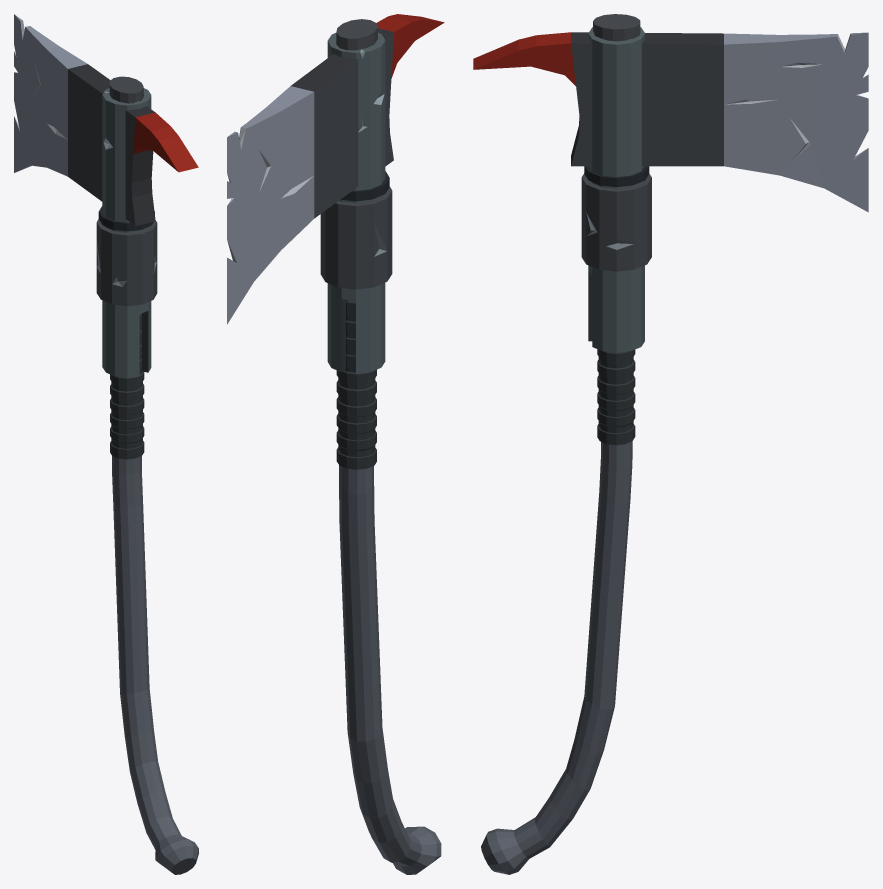
The model's file is axe.glb.
The picture shows the model from 3 angles, left to right: view 1: azimuth 30°, elevation 25°; view 2: azimuth 150°, elevation 25°; view 3: azimuth 270°, elevation 25°; orthographic projection. The views are drawn at different scales.
Visible parts, largest first — view 1: SM_Fire_Axe; view 2: SM_Fire_Axe; view 3: SM_Fire_Axe.
Boxes of the visible parts, bbox=[...] form: SM_Fire_Axe: bbox=[14, 14, 198, 874]; SM_Fire_Axe: bbox=[227, 14, 444, 874]; SM_Fire_Axe: bbox=[473, 14, 868, 874].
Bounding box in the file's own units: 0.0745 × 1.03 × 0.432.
Materials: 1 (1 with a texture image).
